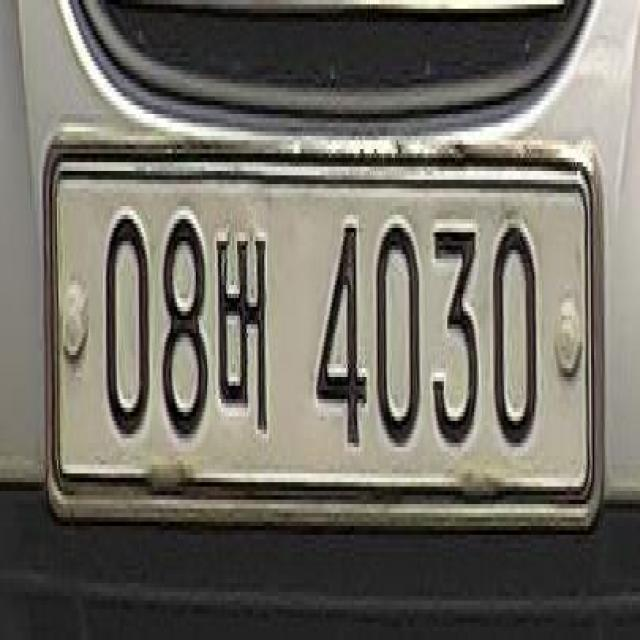illegal_plate: (44, 133, 604, 538)
